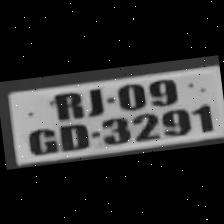0: (110, 78, 148, 112)
1: (189, 100, 218, 134)
2: (127, 109, 159, 142)
3: (91, 112, 131, 146)
9: (144, 74, 182, 107), (156, 105, 192, 138)
D: (54, 120, 91, 152)
G: (22, 124, 58, 156)
R: (46, 88, 86, 122)
U: (82, 83, 113, 116)
